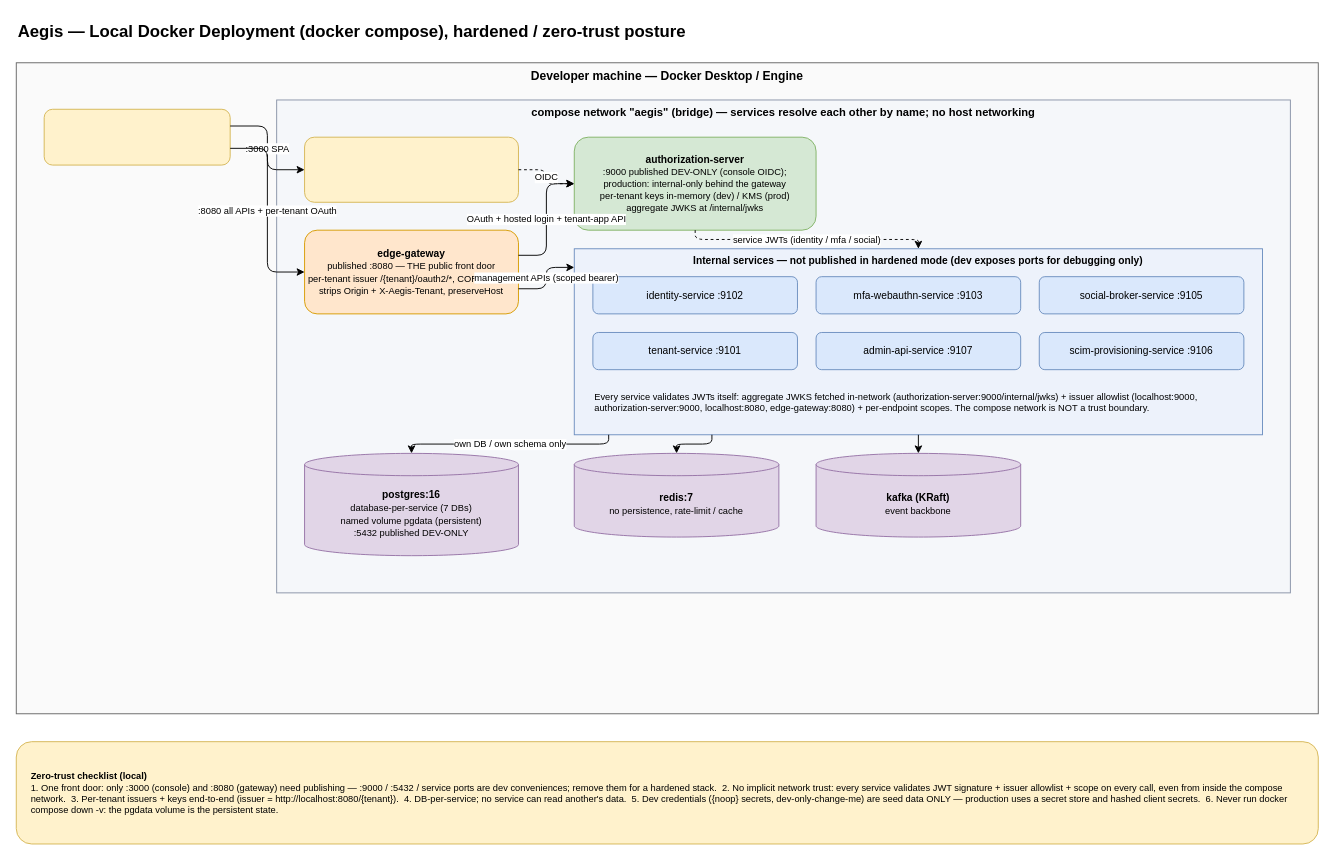
This 1335x860 diagram has some shape labels left out. Each missing label, with the centre of its shape:
"admin-console (nginx) published :3000 → 80 static SPA, no secrets baked in" belongs at (x=411, y=169).
"Developer browser localhost only — nothing is exposed off-host" belongs at (x=136, y=136).
